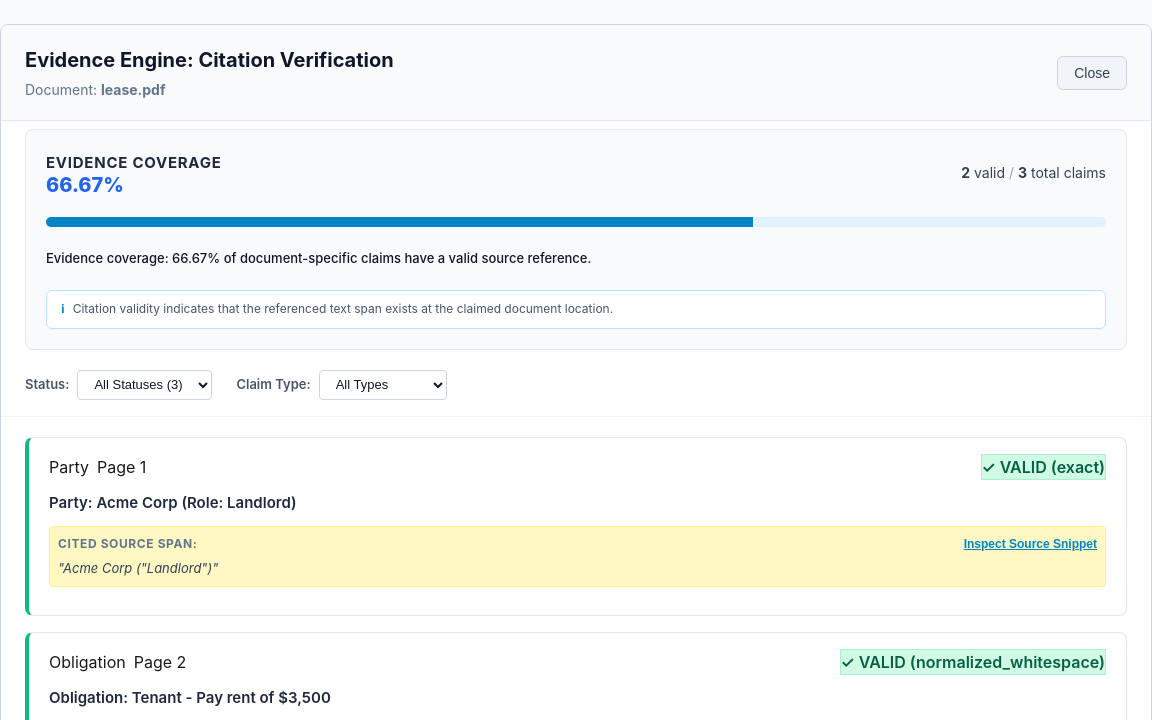
it: EvidenceViewer Component › filters claims by claim type
Select "Obligations" in the dropdown with test id "filter-type": coordinates (383, 385) [319, 370, 447, 400]
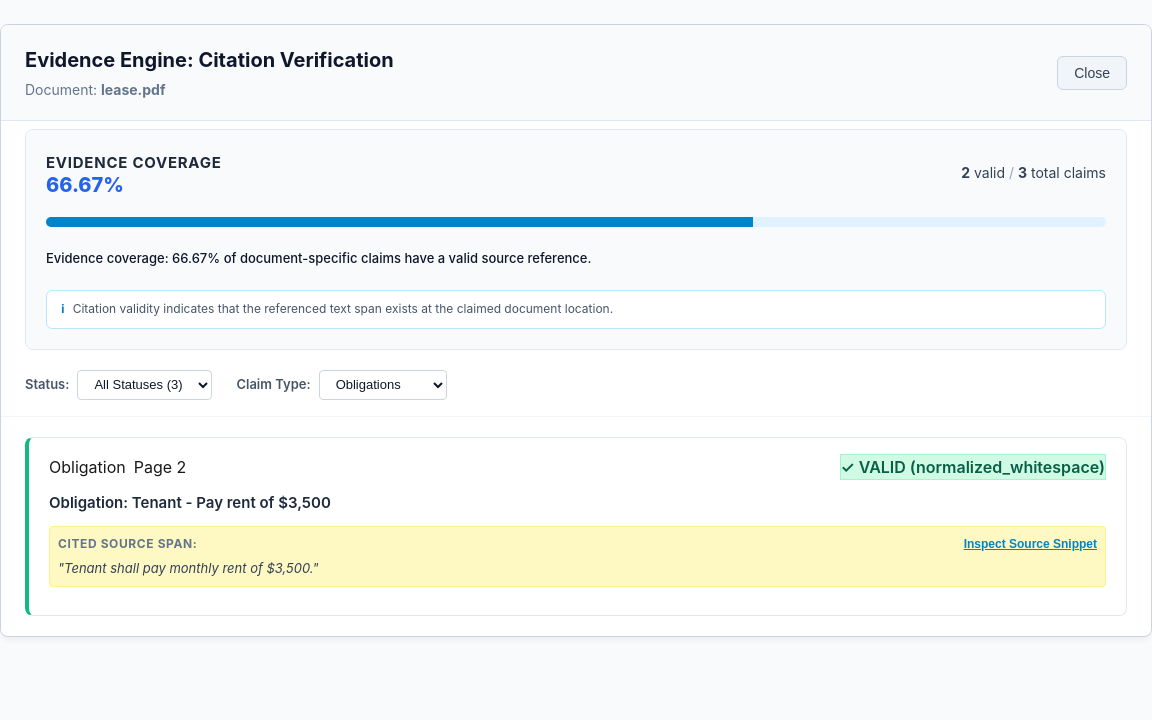
Expected: the element with test id "claim-card-claim-2" is shown, [25, 437, 1127, 616]
Expected: the element with test id "claim-card-claim-1" is gone
